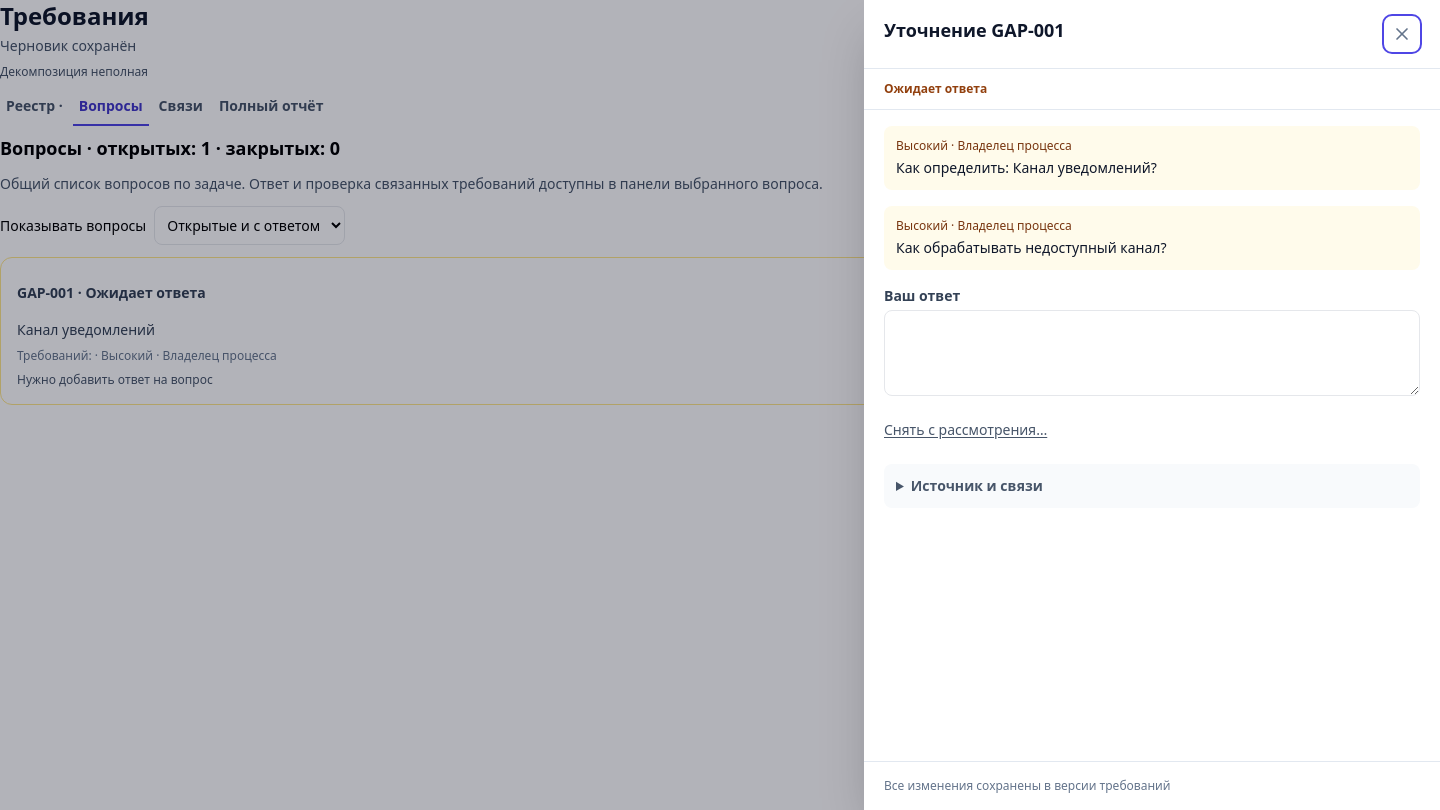
QUESTION hash resolves its GAP and a missing target is recoverable
Click the button named "Закрыть вопрос" in the row of "Уточнение GAP-001". click: (1402, 34)
box: [1384,16,1420,52]
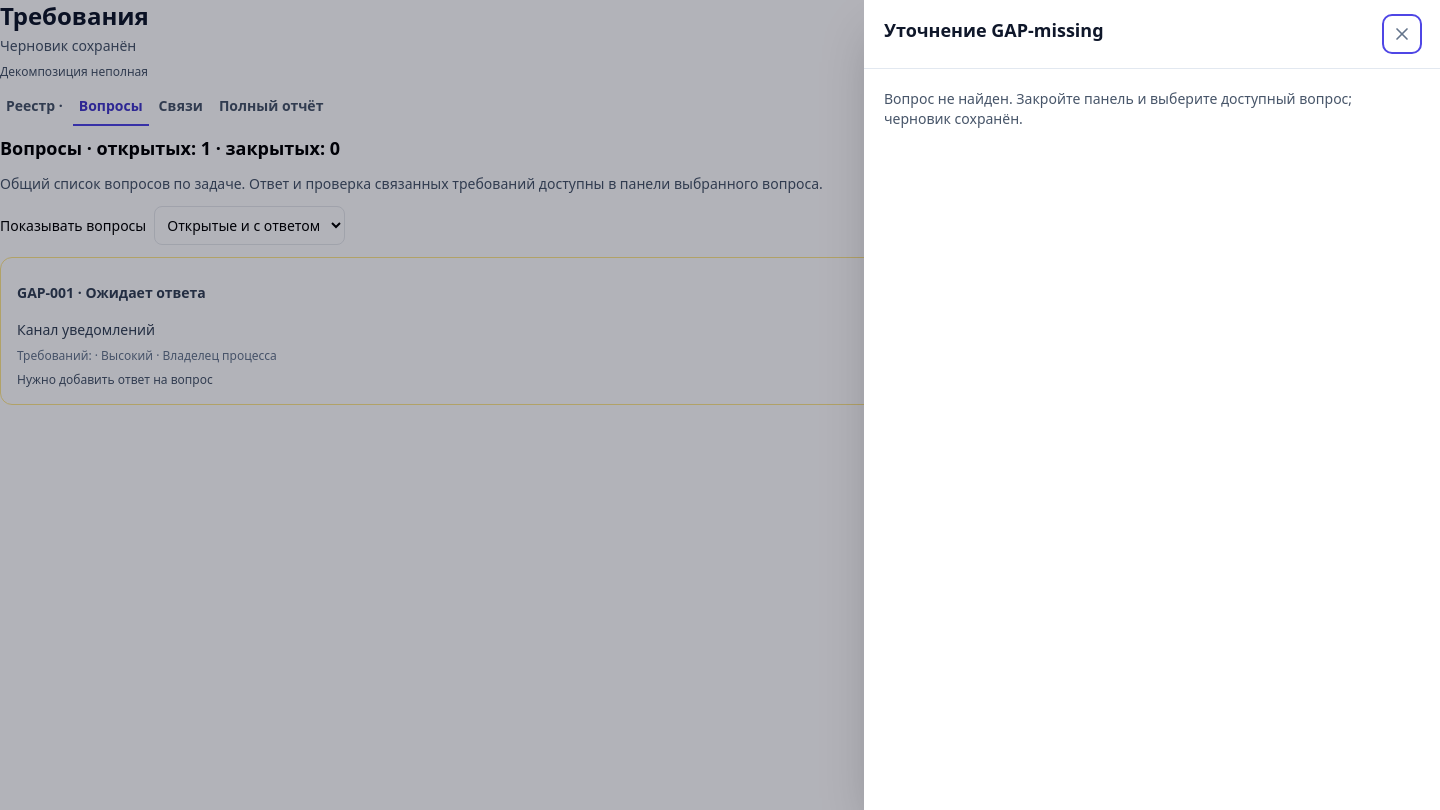
Result: the dialog "Уточнение GAP-missing" shows "Вопрос не найден" at [884,89,1352,128]
